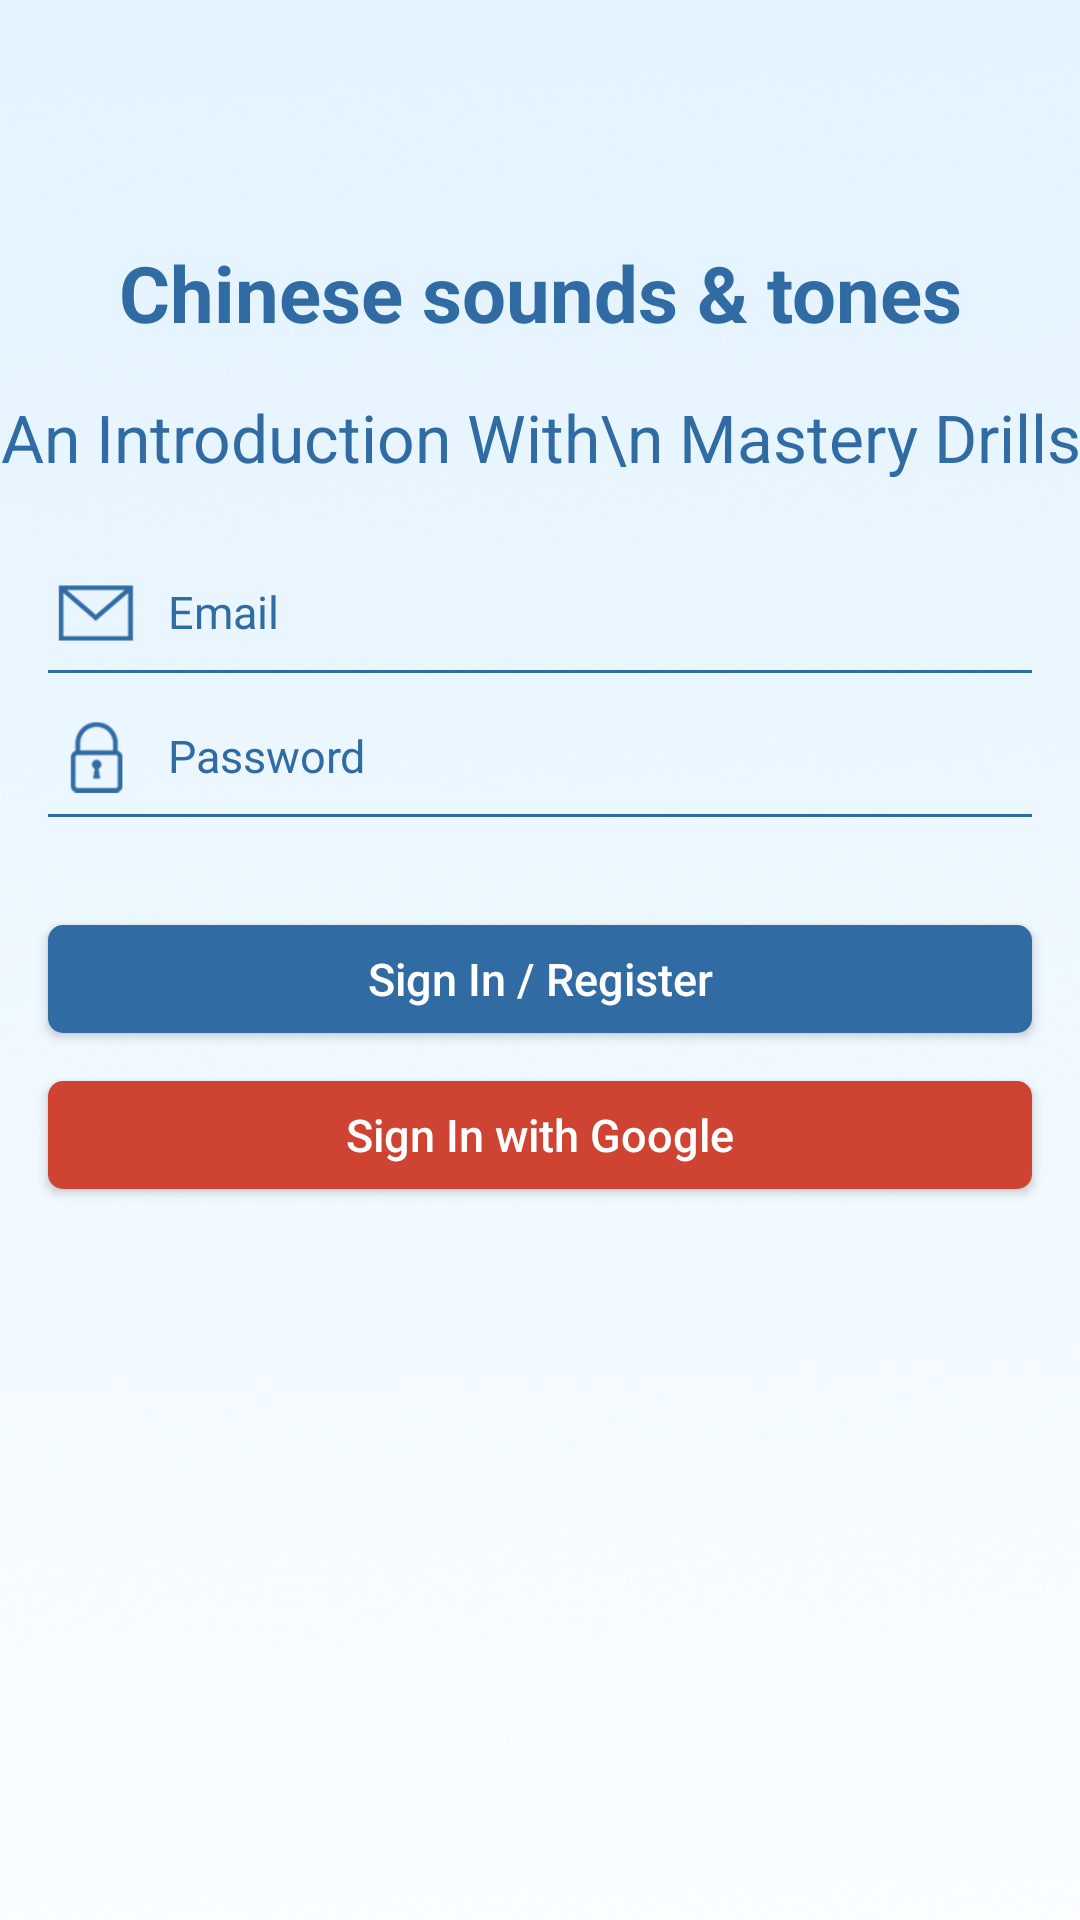

Locate icon controls on the screen. Image size 1080x1920, boxes as (x1, y1, x2, y2).
lock: (70, 722, 123, 793)
